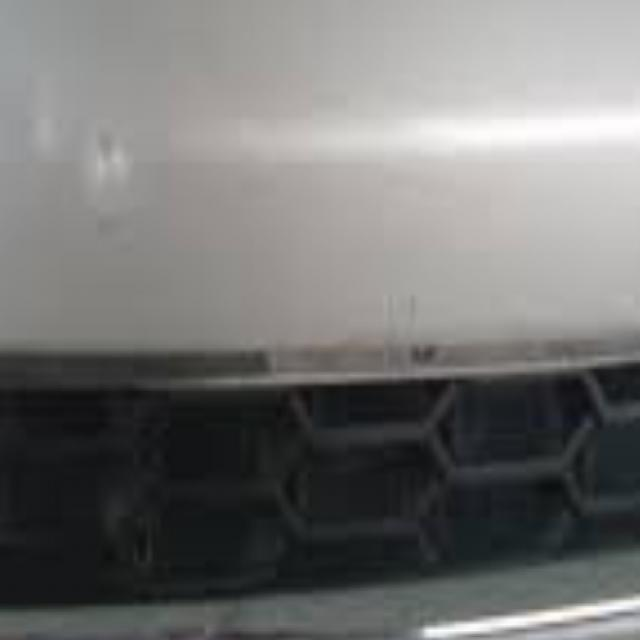dents: (77, 126, 162, 212)
